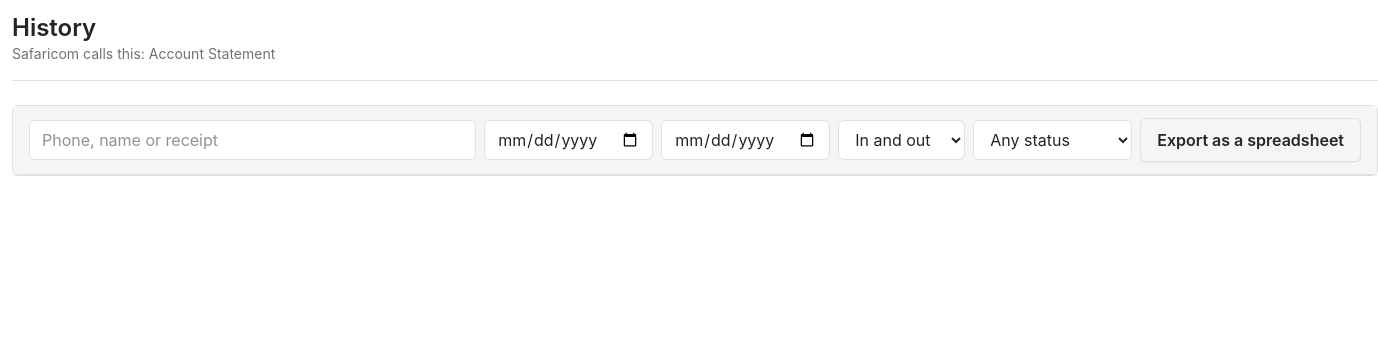
it: Export as a spreadsheet › shows the explained error when the export is refused, and saves nothing
The image size is (1378, 340).
Click the button "Export as a spreadsheet": coordinates (1251, 140) [1140,118,1361,162]
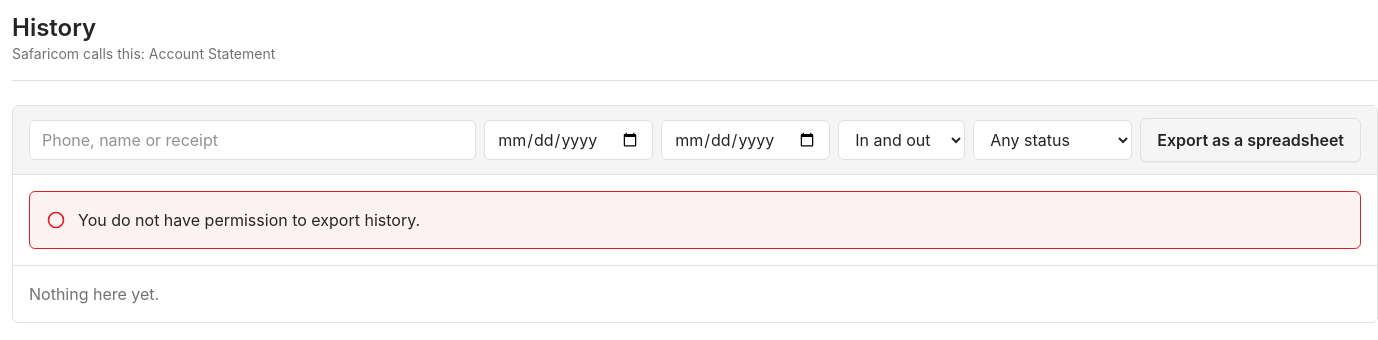
Expected: the text "You do not have permission to export history." is shown, [78,210,420,230]
